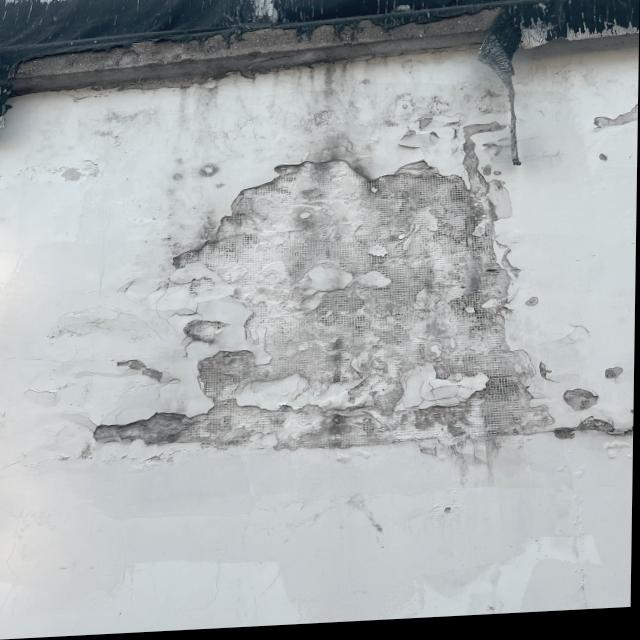damp: (275, 69, 380, 152)
spalling: (67, 113, 629, 462), (580, 101, 638, 150)
